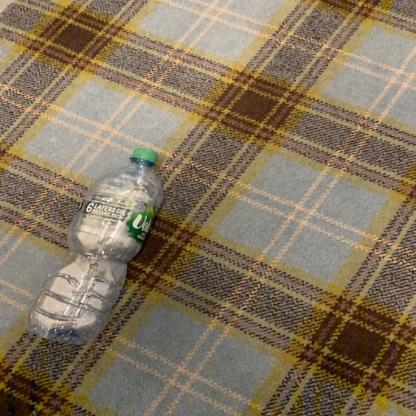trash: (28, 146, 165, 349)
